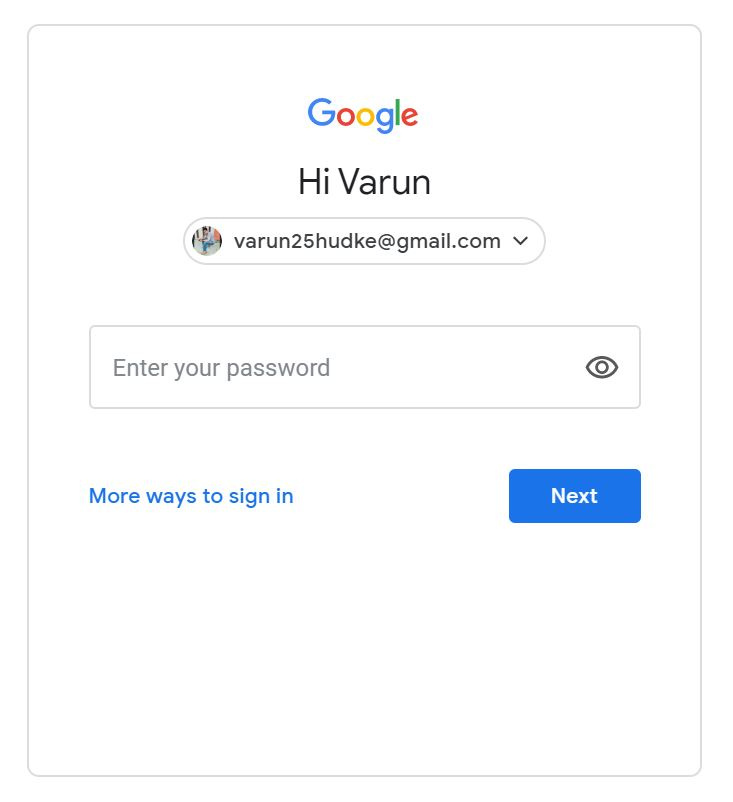button: (492, 467, 652, 532)
textbox: (77, 308, 659, 428)
